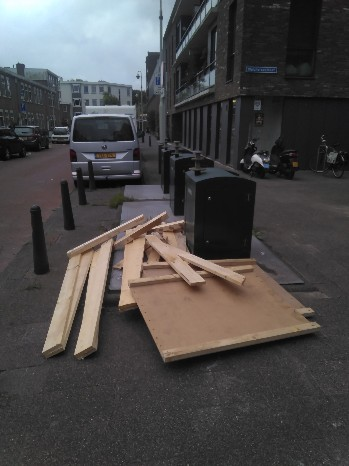Container: (189, 170, 266, 253), (165, 151, 196, 211), (159, 142, 187, 198)
Rest: (134, 277, 315, 357), (47, 247, 90, 353), (91, 231, 150, 305), (134, 213, 188, 272)
Voertuig: (74, 107, 140, 179), (244, 144, 292, 183), (315, 131, 349, 177), (25, 123, 45, 150)
